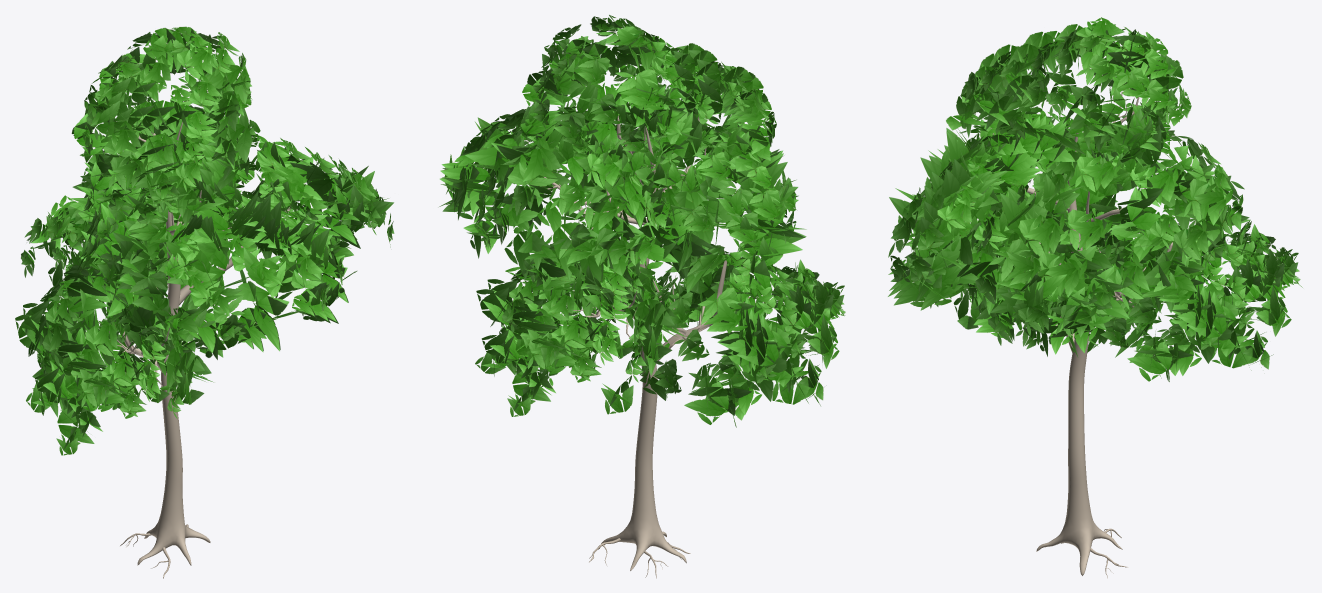
3 views of the same model, side by side, from view 1: azimuth 30°, elevation 25°; view 2: azimuth 150°, elevation 25°; view 3: azimuth 270°, elevation 25° (orthographic). The views are drawn at different scales.
Parts seen in each view (by area): view 1: Tree19fbxpolySurface3729_3, Tree19fbxpolySurface3729_1, Tree19fbxpolySurface3729_2; view 2: Tree19fbxpolySurface3729_3, Tree19fbxpolySurface3729_1, Tree19fbxpolySurface3729_2; view 3: Tree19fbxpolySurface3729_3, Tree19fbxpolySurface3729_1, Tree19fbxpolySurface3729_2.
Part boxes in pixels (bbox=[...]): Tree19fbxpolySurface3729_3: bbox=[15, 26, 394, 455]; Tree19fbxpolySurface3729_1: bbox=[120, 210, 210, 578]; Tree19fbxpolySurface3729_2: bbox=[98, 122, 290, 386]; Tree19fbxpolySurface3729_3: bbox=[439, 15, 845, 427]; Tree19fbxpolySurface3729_1: bbox=[589, 127, 690, 578]; Tree19fbxpolySurface3729_2: bbox=[543, 110, 758, 364]; Tree19fbxpolySurface3729_3: bbox=[888, 17, 1302, 381]; Tree19fbxpolySurface3729_1: bbox=[1036, 133, 1128, 578]; Tree19fbxpolySurface3729_2: bbox=[991, 91, 1211, 352].
Bounding box in the file's own units: 24.3 × 33.22 × 23.37.
Materials: 2 (1 with a texture image).
